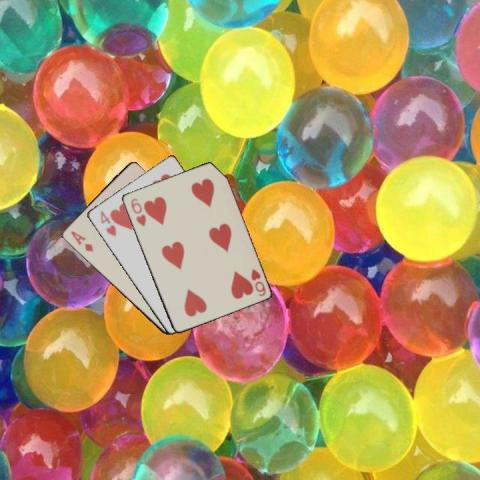4h: (98, 207, 118, 238)
6h: (247, 266, 267, 298), (128, 195, 147, 228)
Ad: (67, 228, 95, 253)
